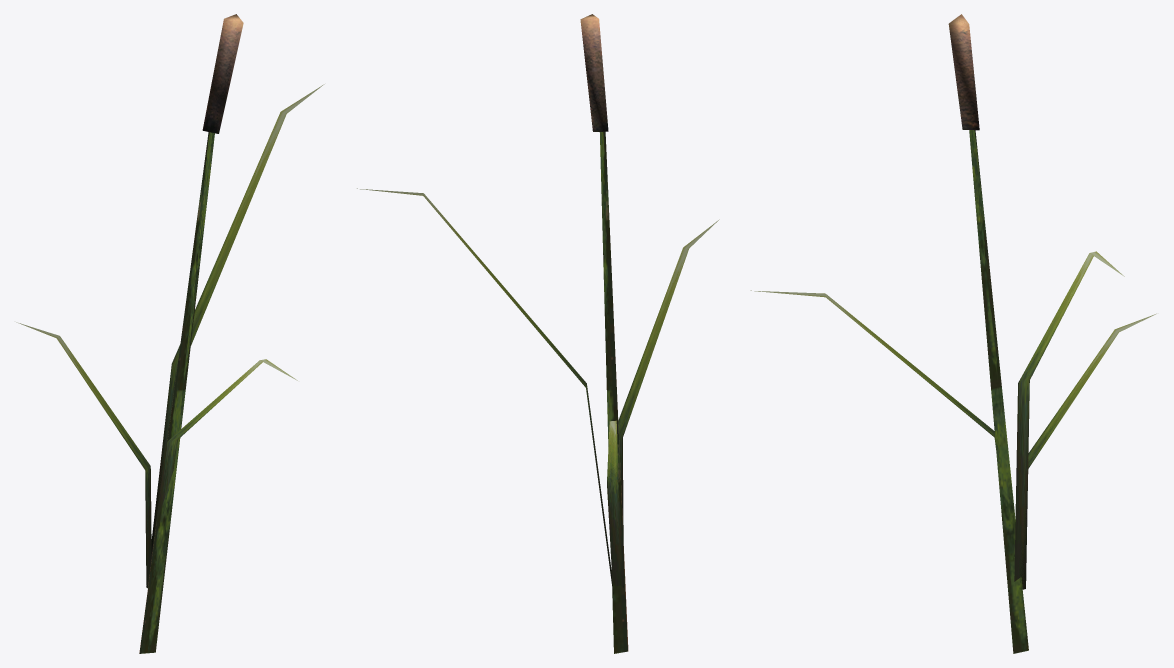
File: swmp_shor_cattail_lg_l1.fbx
The picture shows the model from 3 angles, left to right: view 1: azimuth 30°, elevation 25°; view 2: azimuth 150°, elevation 25°; view 3: azimuth 270°, elevation 25°; orthographic projection. The views are drawn at different scales.
Parts seen in each view (by area): view 1: mesh_node; view 2: mesh_node; view 3: mesh_node.
Part boxes in pixels (left/top/right/bottom): mesh_node: left=16, top=14, right=324, bottom=653; mesh_node: left=357, top=14, right=719, bottom=653; mesh_node: left=750, top=14, right=1156, bottom=653.
Size of the model in its own units: 1.31 by 2.72 by 1.53.
